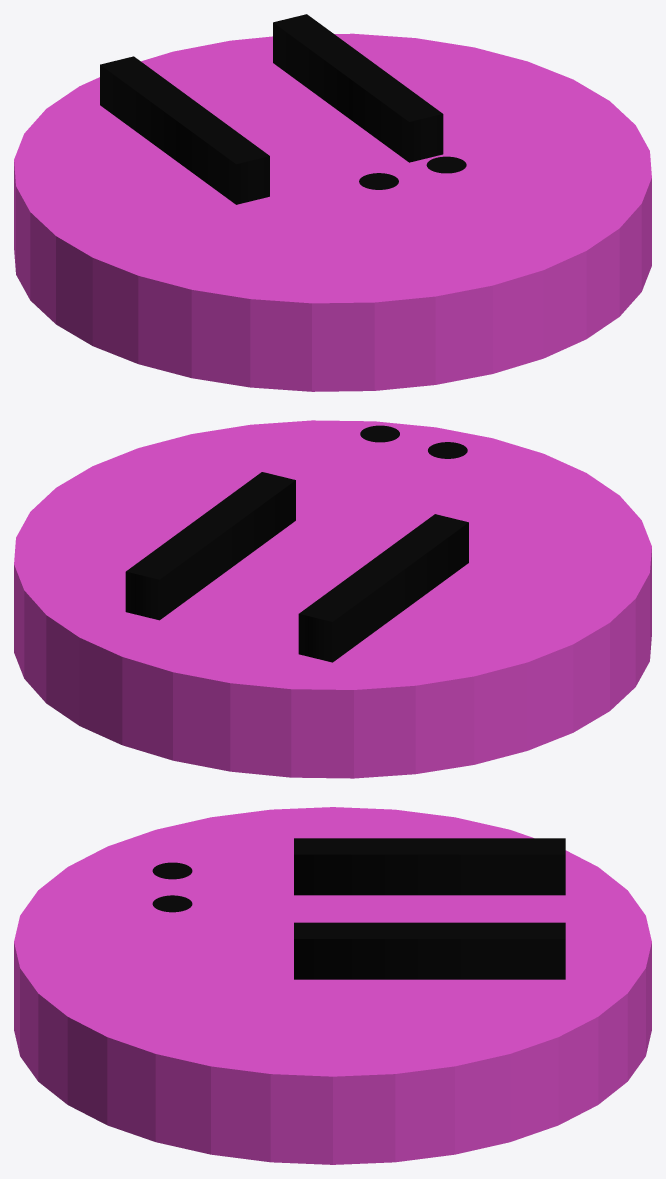
The model's file is eleven.fbx.
3 renders of one model, top to bottom at view 1: azimuth 30°, elevation 25°; view 2: azimuth 150°, elevation 25°; view 3: azimuth 270°, elevation 25°, orthographic.
Parts seen in each view (by area): view 1: Circle, Text.001, Circle.007, Circle.008; view 2: Circle, Text.001, Circle.007, Circle.008; view 3: Circle, Text.001, Circle.008, Circle.007.
Boxes of the visible parts, x1,y1,x2,y2 form: Circle: (14, 33, 651, 391); Text.001: (100, 14, 443, 204); Circle.007: (426, 156, 466, 173); Circle.008: (359, 173, 398, 189); Circle: (14, 420, 651, 778); Text.001: (125, 472, 468, 662); Circle.007: (360, 425, 399, 442); Circle.008: (428, 442, 467, 458); Circle: (14, 807, 651, 1164); Text.001: (294, 838, 565, 979); Circle.008: (152, 862, 192, 879); Circle.007: (152, 895, 192, 912).
Bounding box in the file's own units: 200 × 49.27 × 200.
